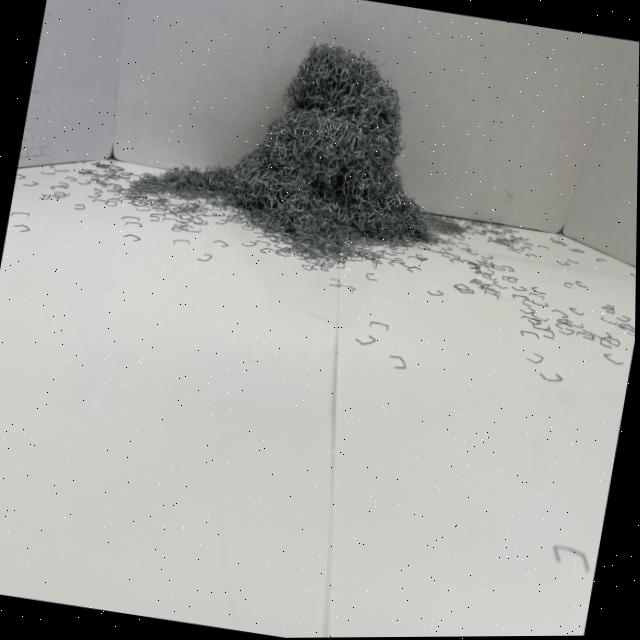staples: (125, 12, 469, 265)
